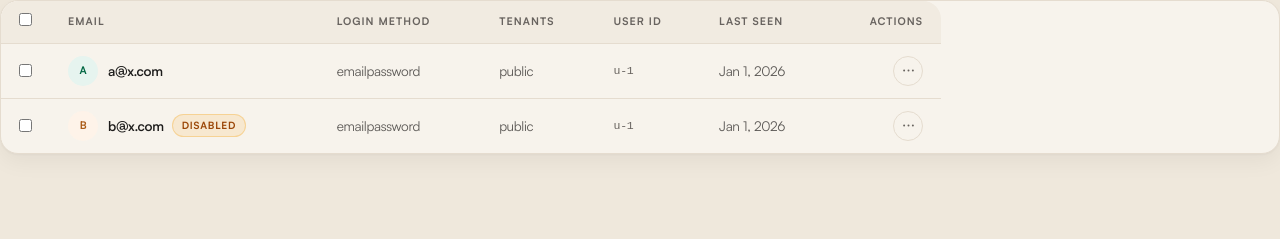
it: UsersTable › shows the bulk bar with a count when a row is selected
What coordinates should you click on to do the following:
click the checkbox named "select a@x.com"
I would click on:
 (26, 70)
Its box is [19,64,32,77].
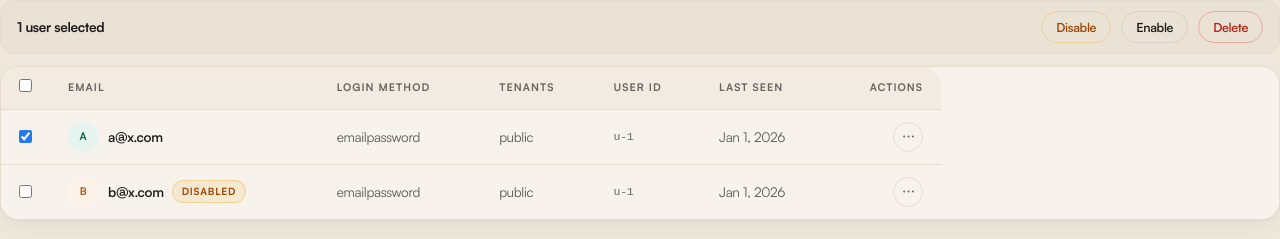
Result: the text "1 user selected" is shown at [17,17,104,37]
